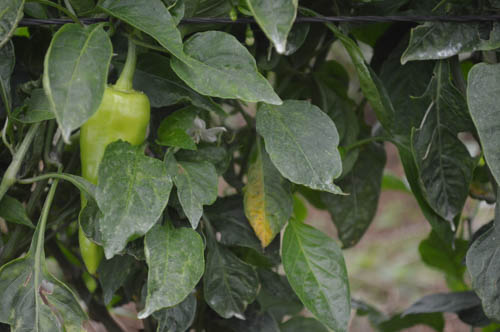ChiliPepper: (77, 91, 148, 275)
